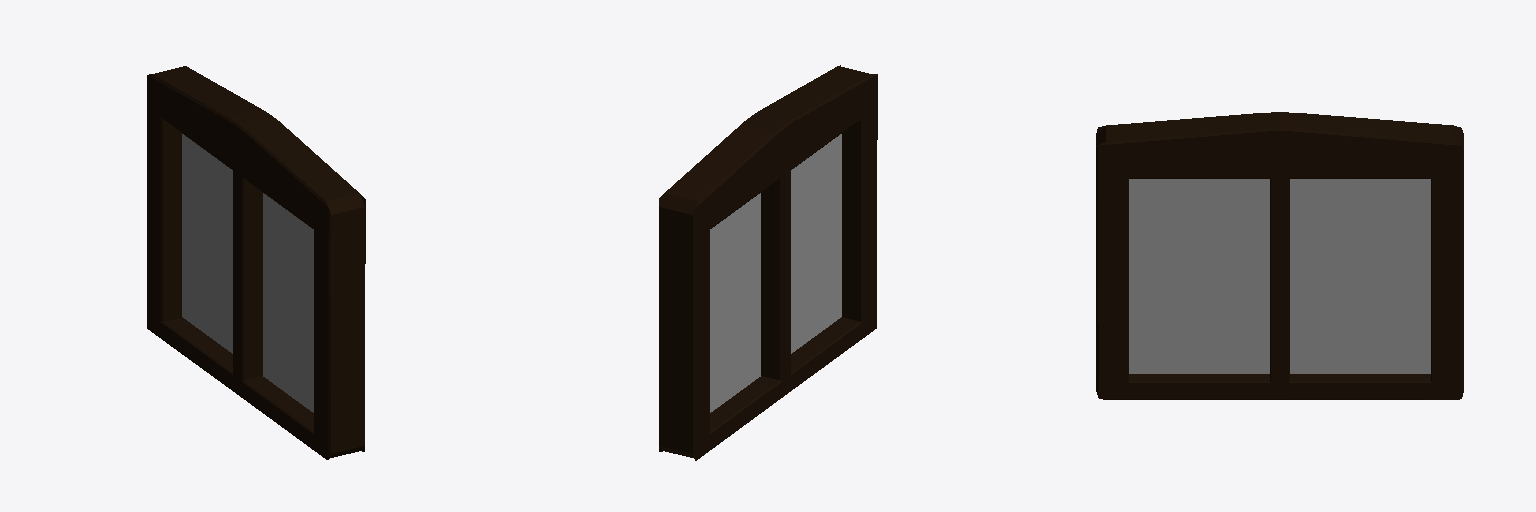
File: ventana.obj
3 renders of one model, left to right at view 1: azimuth 30°, elevation 25°; view 2: azimuth 150°, elevation 25°; view 3: azimuth 270°, elevation 25°, orthographic.
Visible parts, largest first — view 1: Window_1_Plane.005; view 2: Window_1_Plane.005; view 3: Window_1_Plane.005.
Part boxes in pixels (x1,y1,x2,y2): Window_1_Plane.005: (147, 66, 365, 459); Window_1_Plane.005: (659, 65, 877, 460); Window_1_Plane.005: (1096, 112, 1463, 399).
Size of the model in its own units: 1.59 by 11.09 by 13.64.